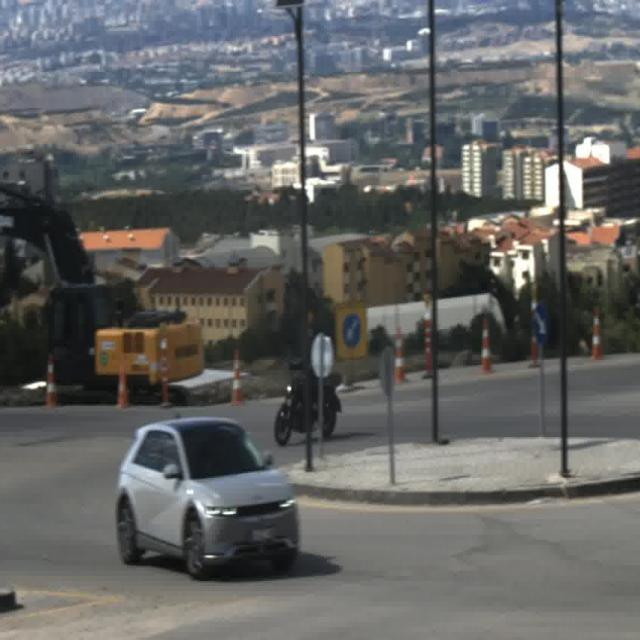Car: (116, 418, 300, 580)
Motorcycle: (272, 351, 341, 443)
